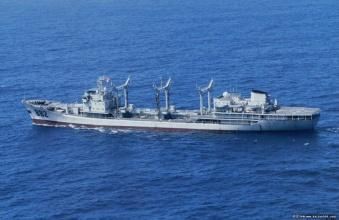Cargoship: (20, 69, 329, 134)
